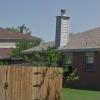Chimney: (51, 6, 73, 53)
